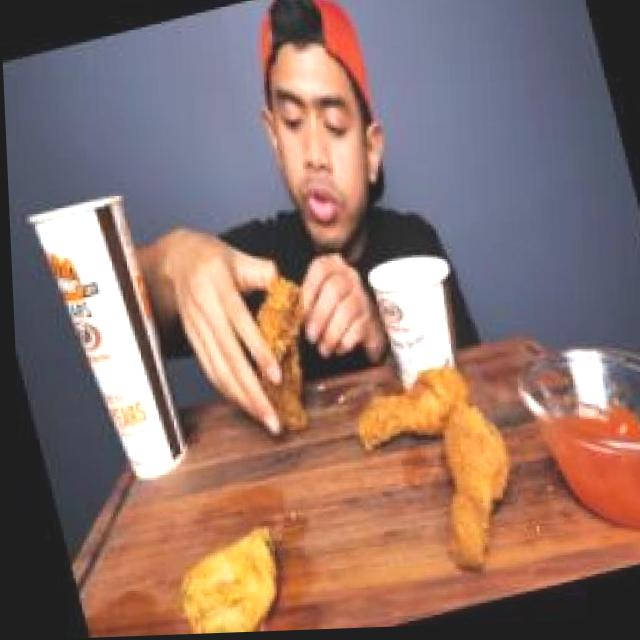AW cola: (9, 165, 201, 513)
crispy corn: (362, 236, 492, 405)
fried chicken: (329, 296, 592, 579), (207, 252, 344, 454)
perkedel: (143, 499, 297, 636)
